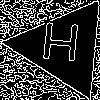H: (38, 22, 82, 71)
